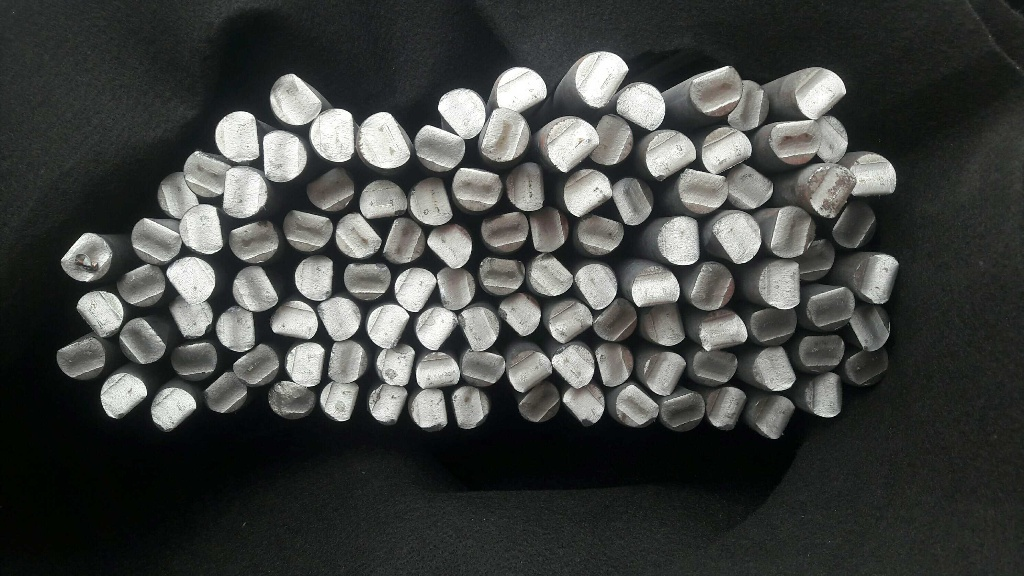dipstick: (354, 110, 412, 172), (687, 65, 740, 120), (711, 211, 763, 267), (547, 116, 598, 173), (576, 49, 627, 106), (437, 86, 486, 144), (481, 108, 529, 167), (414, 121, 464, 177), (58, 233, 111, 284), (792, 65, 848, 113), (270, 73, 321, 125), (804, 166, 855, 218), (258, 130, 307, 184), (309, 106, 355, 163), (223, 166, 268, 223), (452, 163, 503, 213), (523, 248, 575, 297), (213, 111, 262, 162), (561, 171, 614, 218), (545, 295, 594, 345), (645, 129, 696, 177), (824, 201, 875, 249), (704, 126, 753, 175), (726, 164, 776, 212), (166, 258, 217, 305), (616, 83, 667, 130), (305, 169, 358, 214), (115, 320, 170, 363), (231, 265, 281, 312), (180, 204, 225, 256), (55, 341, 108, 385), (74, 291, 123, 338), (132, 218, 181, 265), (689, 261, 738, 308), (282, 207, 333, 252), (769, 121, 821, 165), (99, 373, 147, 420), (426, 222, 474, 269), (406, 176, 453, 224), (494, 67, 549, 108), (502, 160, 547, 210), (225, 221, 278, 263), (264, 380, 317, 422), (382, 217, 429, 264), (855, 254, 900, 303), (591, 114, 632, 167), (680, 168, 728, 213), (848, 301, 893, 349), (657, 217, 701, 266), (854, 153, 898, 202), (480, 211, 530, 254), (697, 310, 750, 350), (151, 388, 198, 433), (213, 307, 260, 352), (759, 260, 804, 307), (767, 208, 811, 256), (169, 292, 212, 341), (184, 150, 226, 200), (505, 349, 555, 391), (611, 175, 653, 225), (529, 204, 570, 255), (335, 212, 381, 257), (641, 301, 687, 346), (156, 172, 199, 220), (269, 297, 317, 340), (594, 296, 637, 344), (359, 177, 409, 218), (117, 266, 165, 308), (200, 372, 248, 414), (752, 348, 800, 390), (317, 297, 361, 342), (551, 344, 595, 389), (704, 386, 748, 431), (170, 341, 216, 384), (457, 306, 500, 352), (477, 254, 525, 295), (366, 305, 410, 349), (642, 350, 685, 395), (233, 344, 279, 386), (395, 267, 437, 313), (630, 266, 682, 303), (343, 261, 391, 301), (326, 339, 370, 382), (317, 379, 359, 424), (293, 254, 334, 300), (574, 263, 615, 309), (283, 342, 323, 389), (451, 386, 491, 433), (578, 212, 625, 252), (658, 393, 705, 433), (692, 348, 739, 387), (814, 111, 849, 163), (615, 386, 658, 428), (461, 350, 506, 390), (756, 396, 796, 441), (417, 305, 456, 351), (733, 78, 768, 129), (498, 293, 540, 335), (593, 343, 636, 384), (808, 290, 851, 331), (435, 265, 474, 310), (517, 386, 562, 425), (805, 373, 844, 418), (374, 345, 414, 387), (411, 388, 449, 432), (845, 351, 890, 388), (370, 383, 408, 426), (751, 309, 797, 344), (561, 386, 602, 425), (799, 336, 844, 371), (797, 240, 834, 281), (415, 353, 459, 386)
